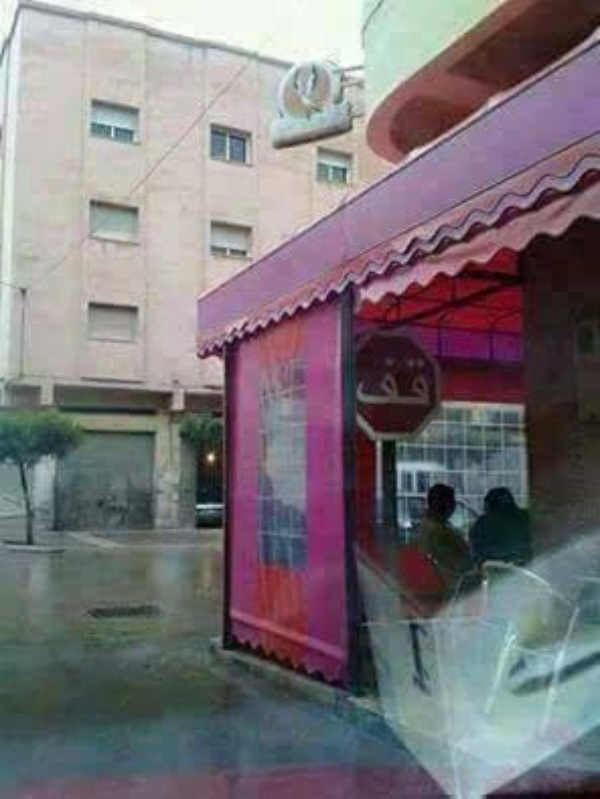text: (369, 353, 384, 410), (385, 353, 400, 410), (401, 353, 416, 410), (417, 353, 432, 410), (359, 353, 368, 410), (433, 353, 434, 410)
